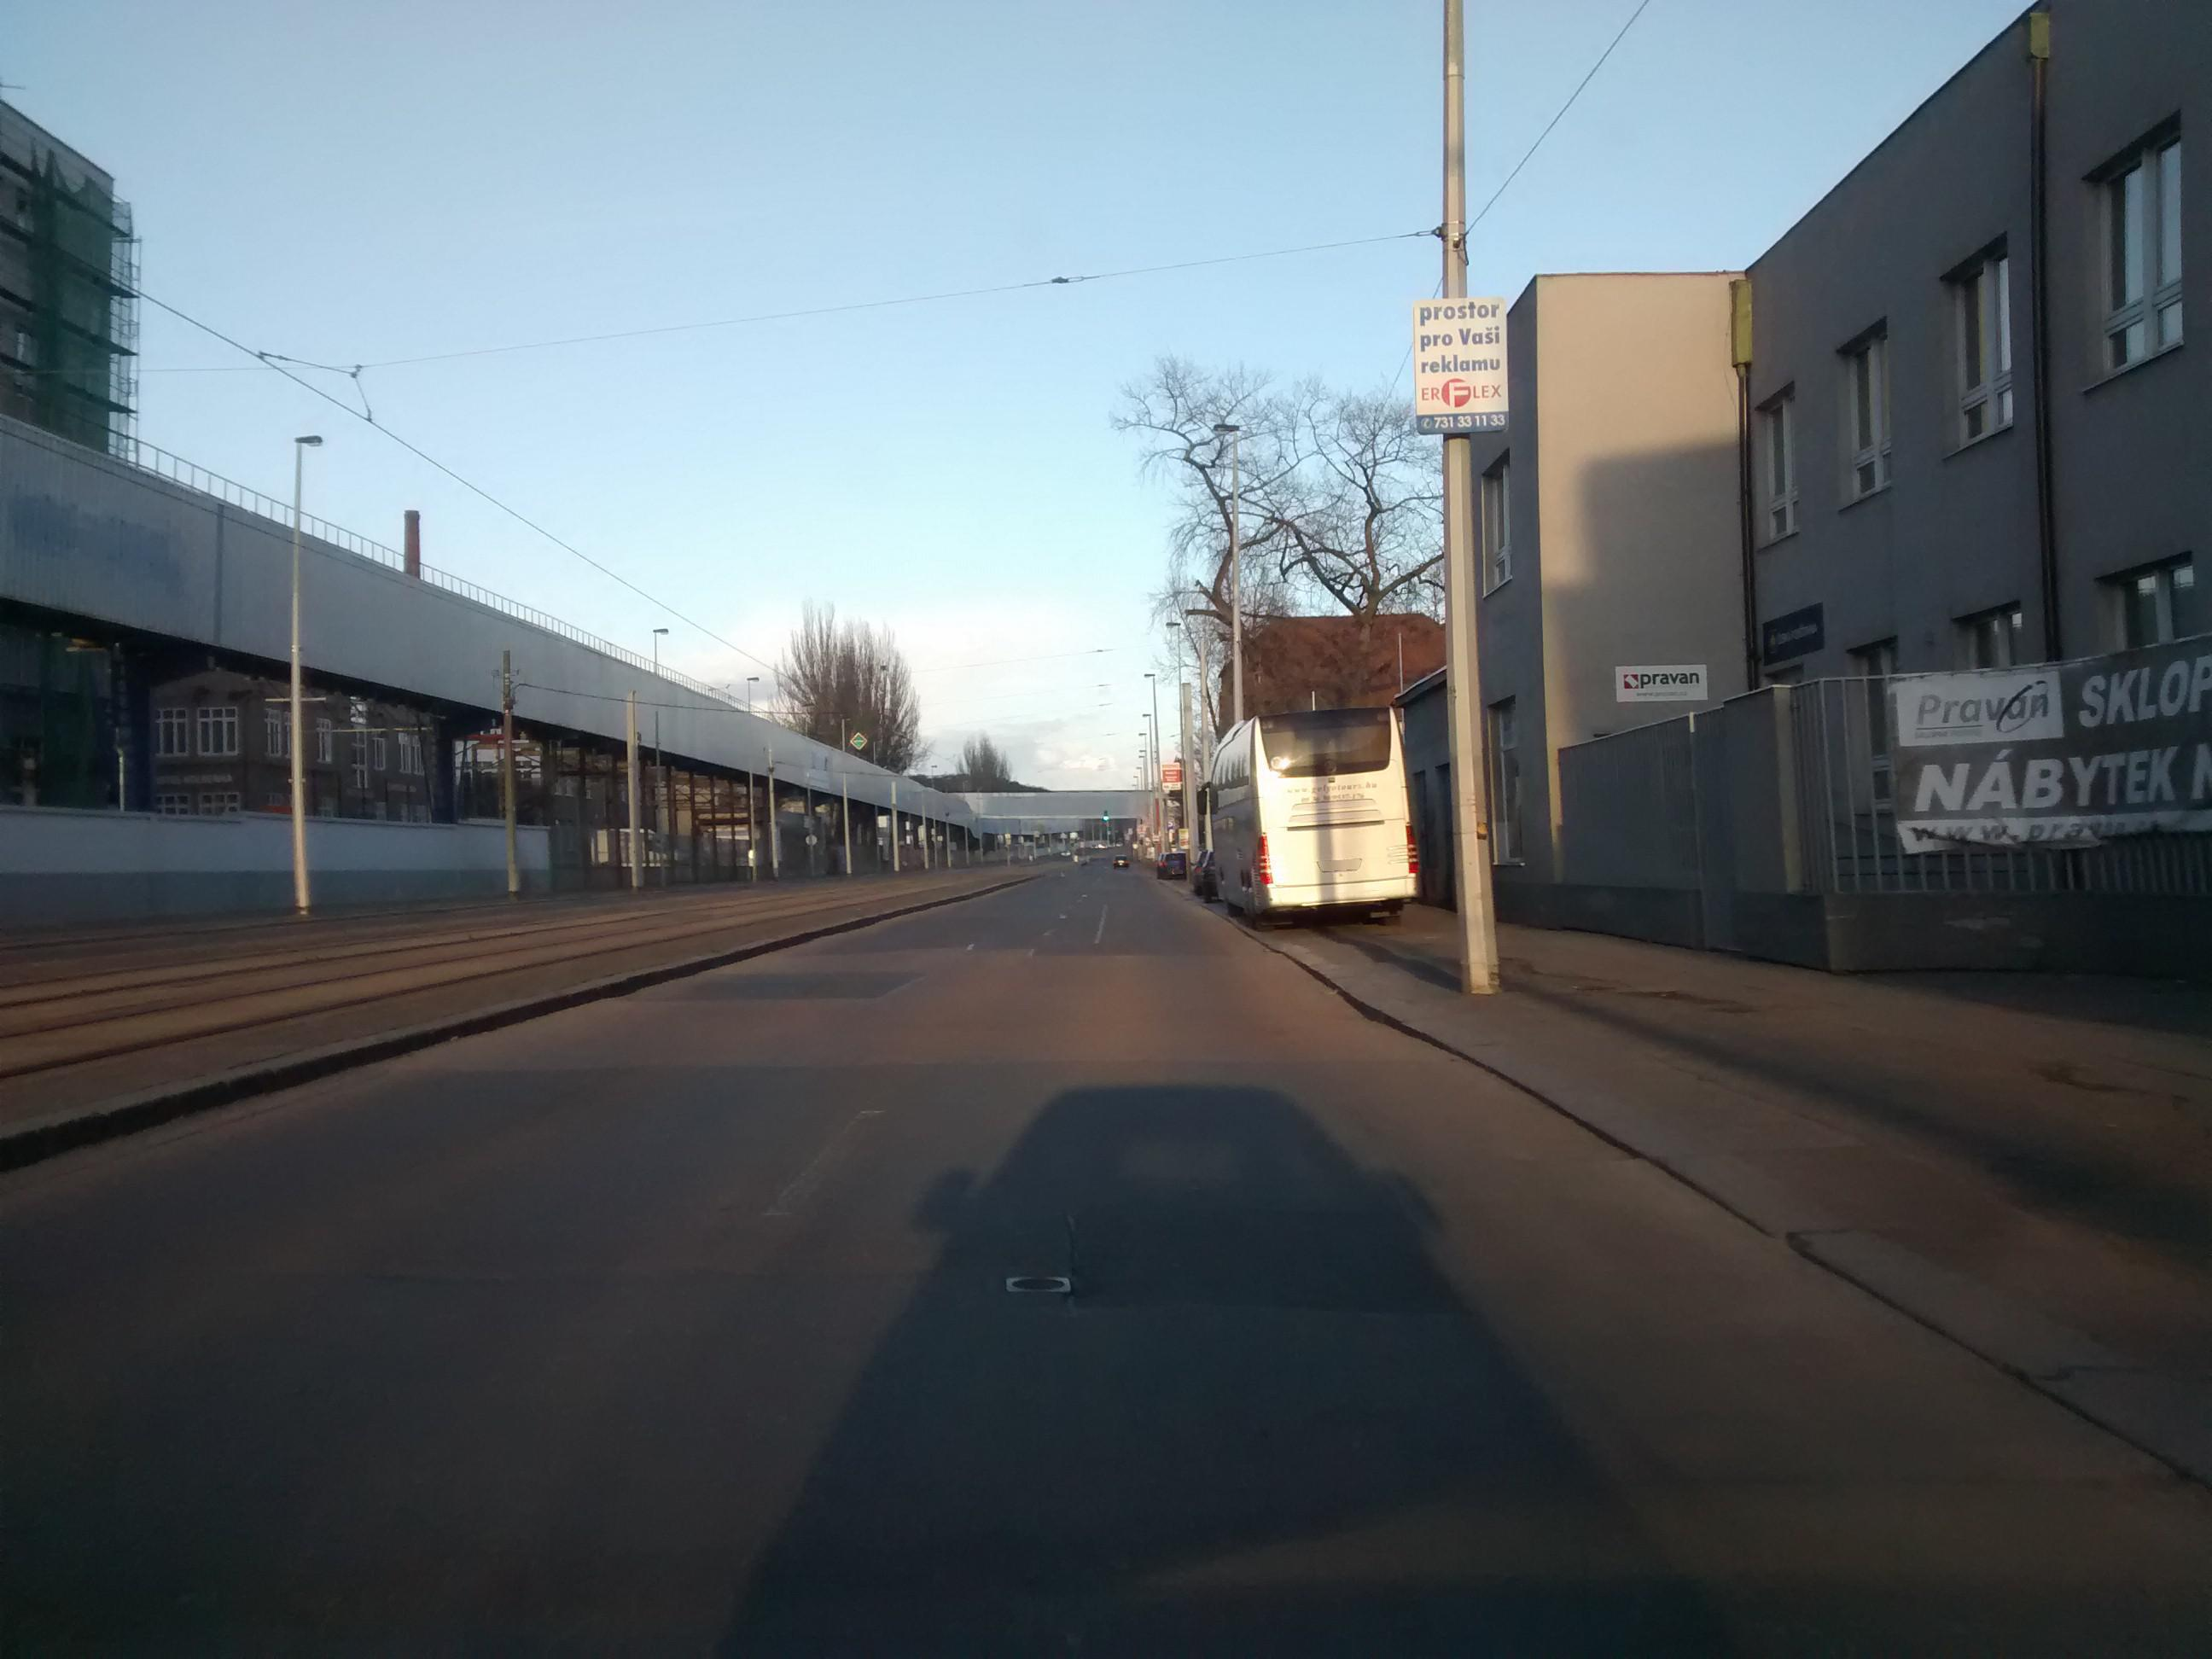vinyl banner: (1883, 633, 2212, 884)
